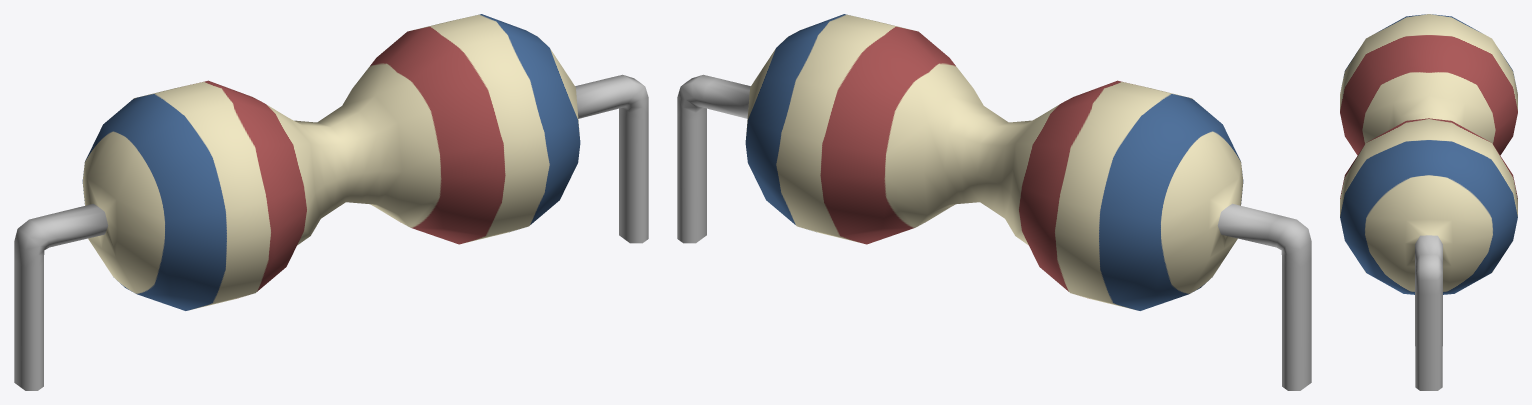
The model's file is amendoim final.fbx.
The picture shows the model from 3 angles, left to right: view 1: azimuth 30°, elevation 25°; view 2: azimuth 150°, elevation 25°; view 3: azimuth 270°, elevation 25°; orthographic projection. The views are drawn at different scales.
Visible parts, largest first — view 1: Cube; view 2: Cube; view 3: Cube.
Boxes of the visible parts, x1,y1,x2,y2 form: Cube: (14, 14, 648, 390); Cube: (677, 14, 1311, 390); Cube: (1340, 14, 1517, 390).
Size of the model in its own units: 926 by 354 by 292.
1 material, 1 textured.
